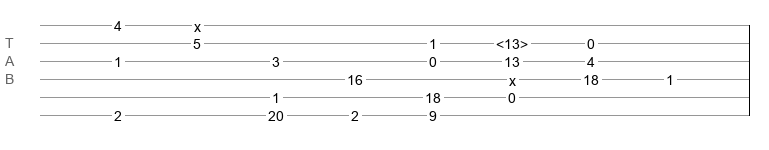0: (429, 54, 437, 64), (508, 90, 516, 100), (587, 36, 595, 46)
1: (114, 54, 122, 64), (272, 90, 280, 100), (429, 36, 437, 46), (666, 72, 674, 82)
13: (504, 54, 520, 64)
16: (347, 72, 363, 82)
18: (425, 90, 441, 100), (583, 72, 599, 82)
2: (114, 108, 122, 118), (351, 108, 359, 118)
20: (268, 108, 284, 118)
3: (272, 54, 280, 64)
4: (114, 18, 122, 28), (587, 54, 595, 64)
5: (193, 36, 201, 46)
9: (429, 108, 437, 118)
harmonic: (496, 36, 528, 46)
x: (194, 19, 201, 27), (509, 73, 516, 81)
